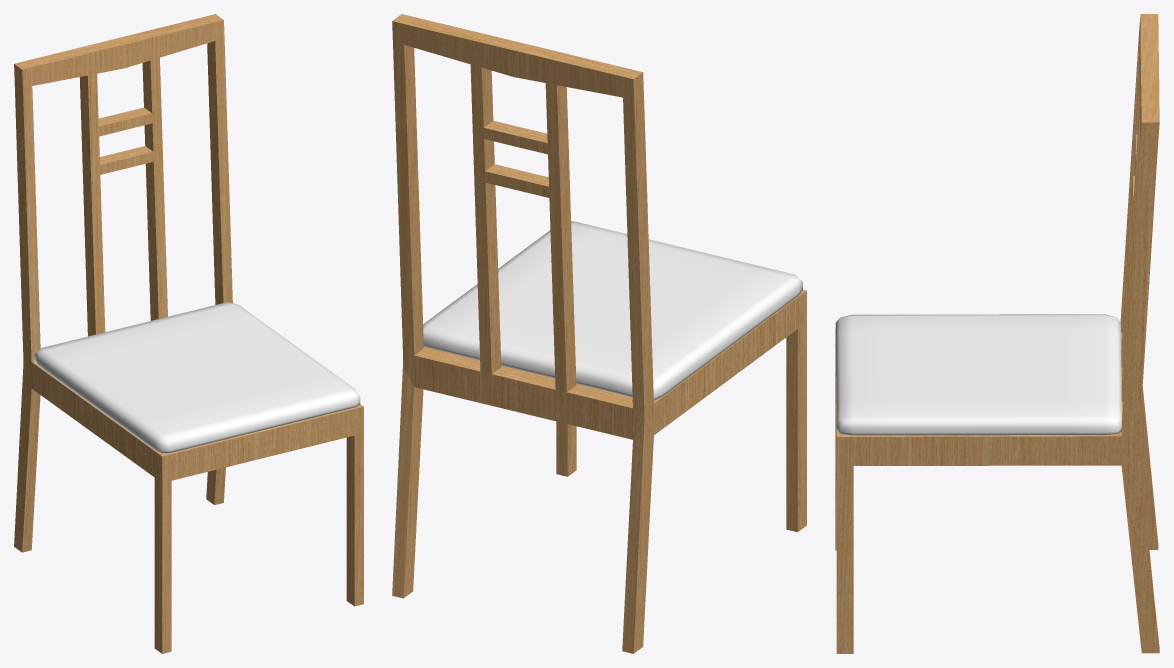
File: Borje_Chair-3D.DAE
3 renders of one model, left to right at view 1: azimuth 30°, elevation 25°; view 2: azimuth 150°, elevation 25°; view 3: azimuth 270°, elevation 25°, orthographic. The views are drawn at different scales.
Parts seen in each view (by area): view 1: Box01, Box02; view 2: Box01, Box02; view 3: Box02, Box01.
Boxes of the visible parts, x1,y1,x2,y2 form: Box01: [14, 14, 363, 653]; Box02: [34, 302, 360, 453]; Box01: [392, 14, 806, 653]; Box02: [423, 221, 802, 400]; Box02: [835, 314, 1121, 435]; Box01: [835, 14, 1159, 653].
Bounding box in the file's own units: 444 × 1004 × 556.
